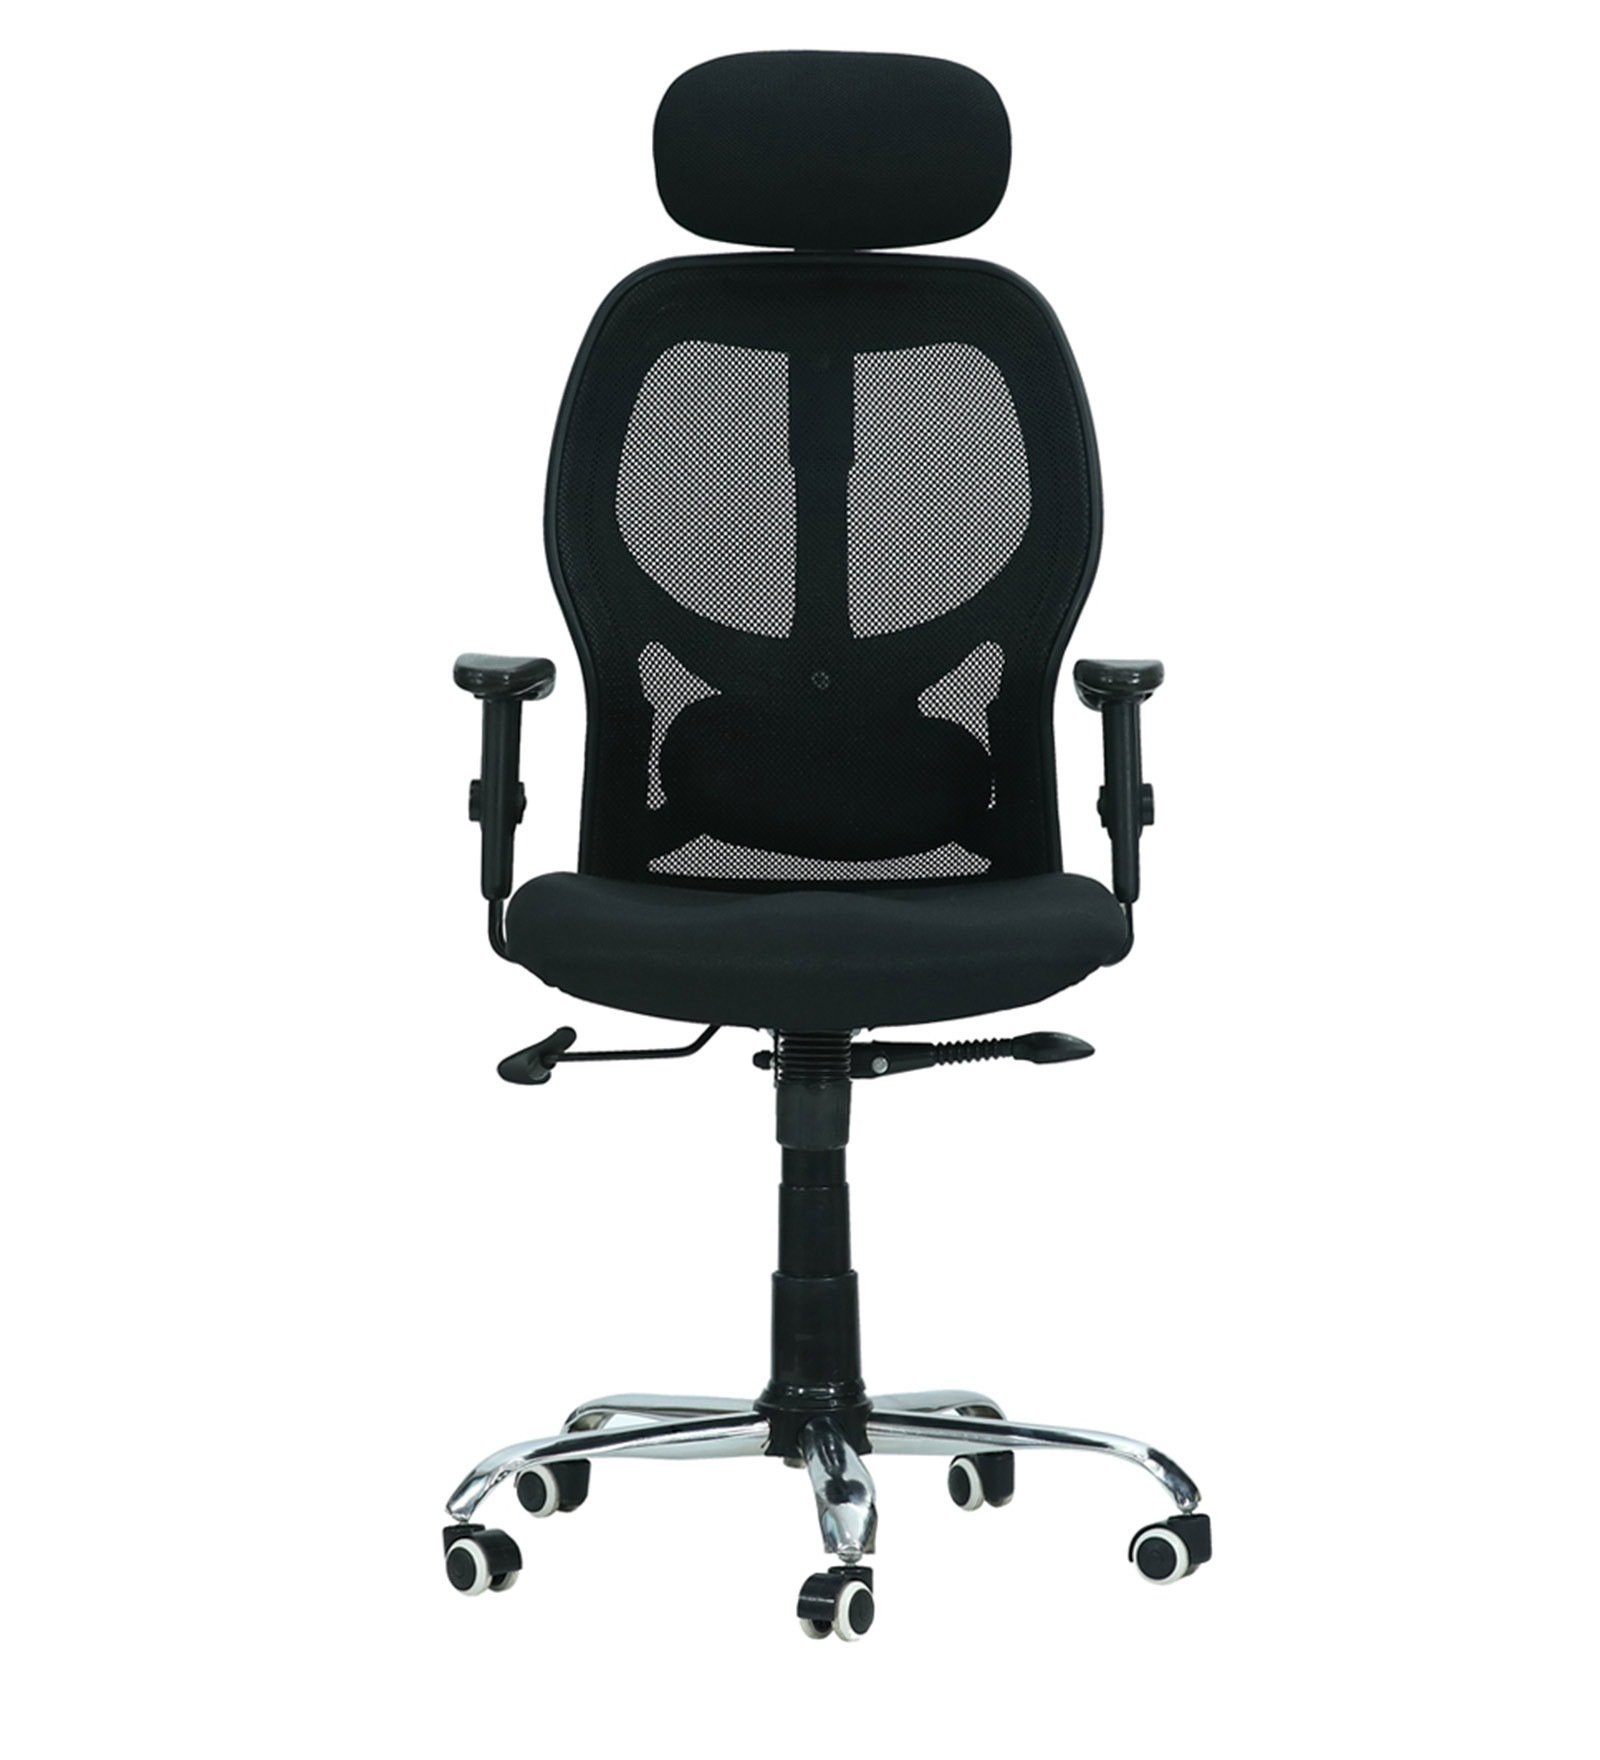Swivel High Back Ergonomic Chair with headrest In Black Colour By Furniease: (428, 46, 1234, 1693)
